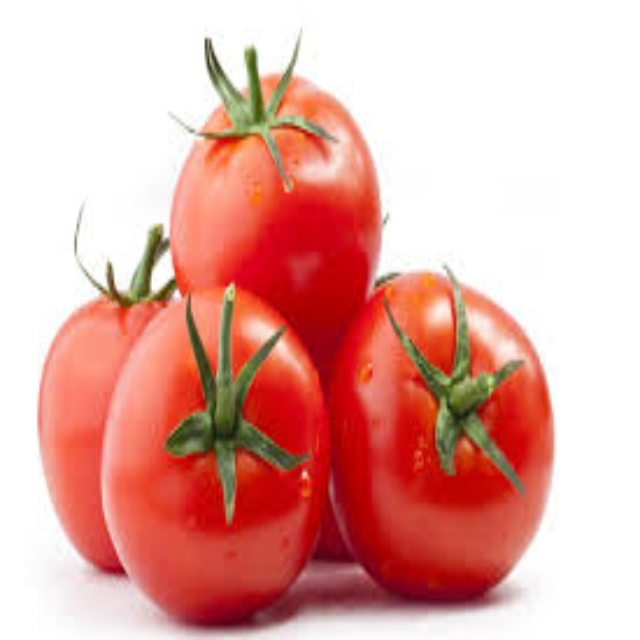tomato: (326, 276, 560, 606), (102, 287, 330, 624), (170, 38, 383, 344), (41, 298, 182, 574)
